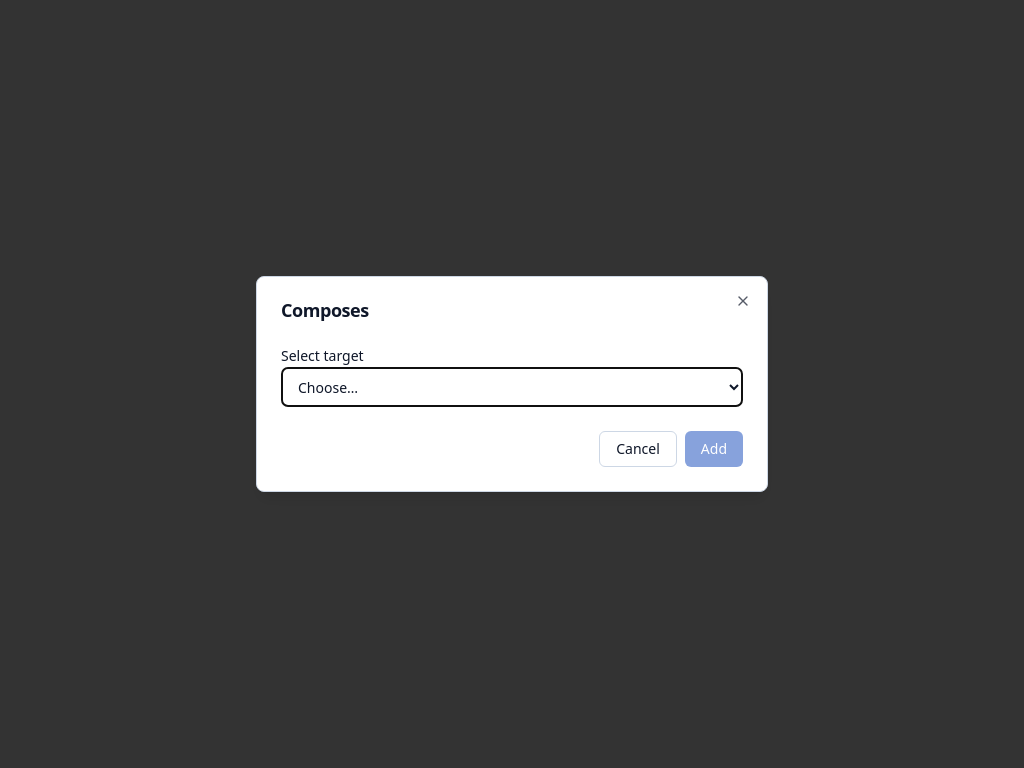
Scenario: EdgePicker type filtering › surfaces API errors (e.g. 409 CYCLE_DETECTED) inline
The image size is (1024, 768).
Select "Plat" in the dropdown. click: (512, 387)
box: [281, 367, 743, 407]
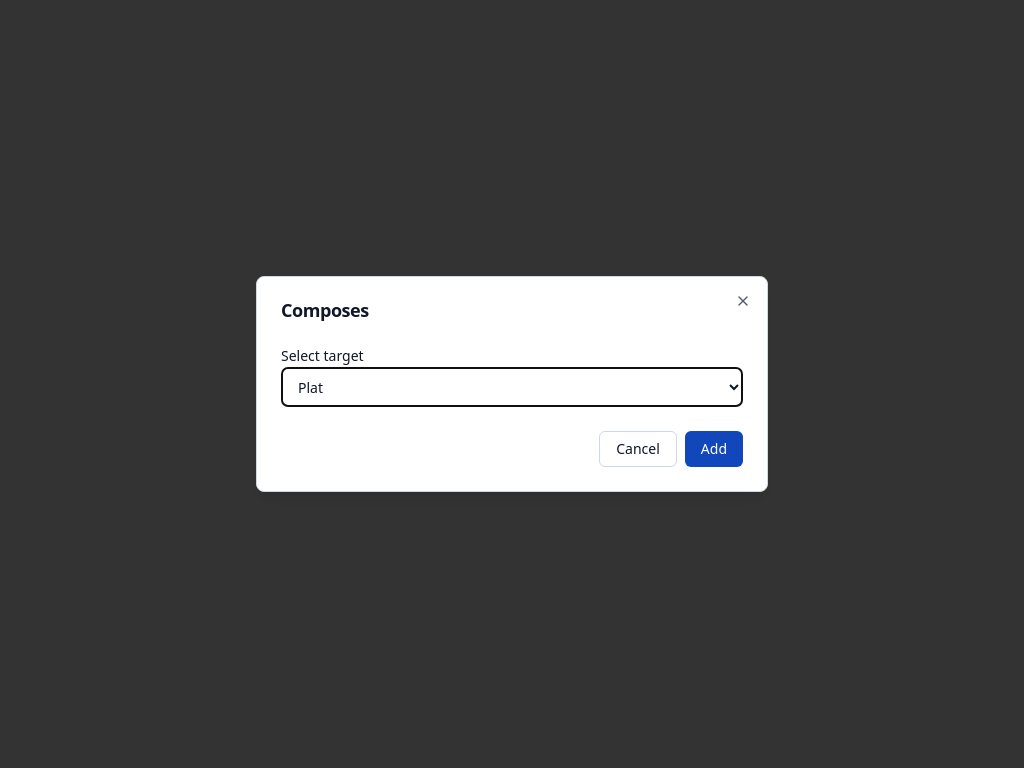
Click the button "Add". click: click(714, 449)
box: [685, 431, 743, 467]
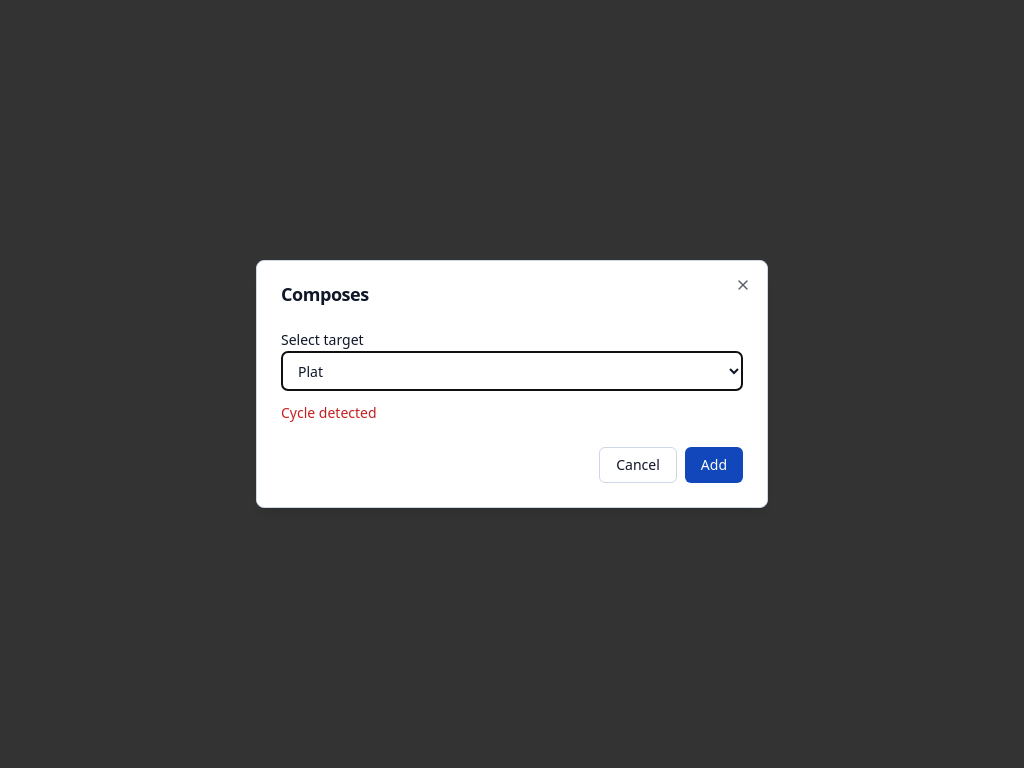
Now the message shows "Cycle", box [281, 403, 377, 422]
